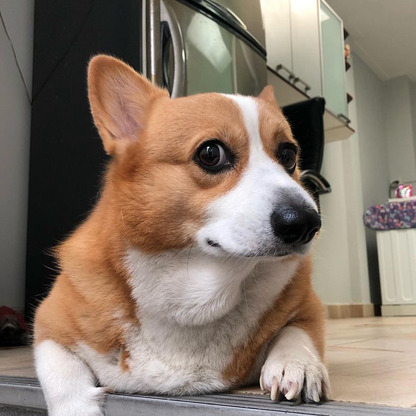Corgi: (44, 41, 340, 405)
